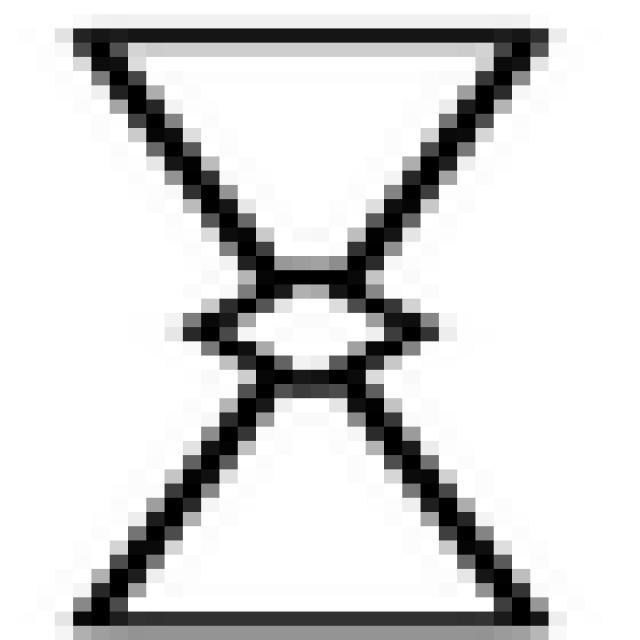Plug Valve: (93, 45, 537, 618)
